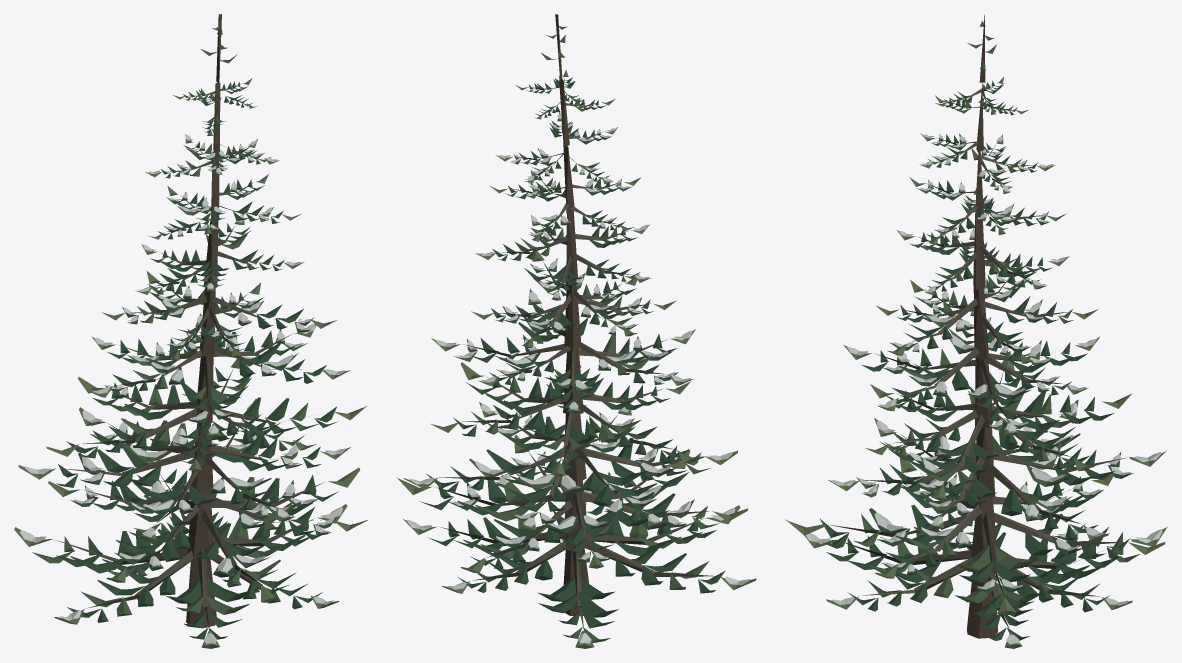
File: spruce_coastal.glb
3 renders of one model, left to right at view 1: azimuth 30°, elevation 25°; view 2: azimuth 150°, elevation 25°; view 3: azimuth 270°, elevation 25°, orthographic. The views are drawn at different scales.
Visible parts, largest first — view 1: spruce_coastal; view 2: spruce_coastal; view 3: spruce_coastal.
Part boxes in pixels (x1,y1,x2,y2): spruce_coastal: [14, 14, 367, 648]; spruce_coastal: [397, 14, 756, 648]; spruce_coastal: [785, 15, 1167, 648].
Bounding box in the file's own units: 2.22 × 3.81 × 2.11.
